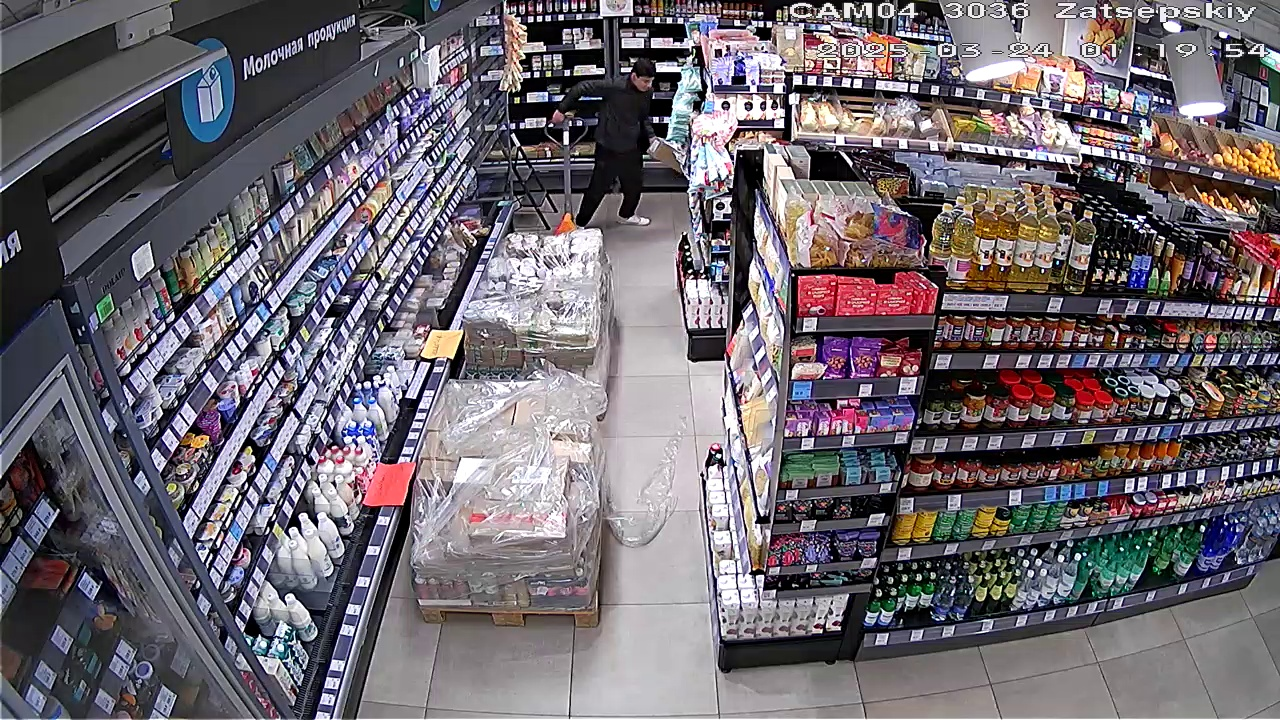Human: (549, 46, 672, 228)
pallet: (403, 375, 619, 625), (463, 223, 624, 403)
